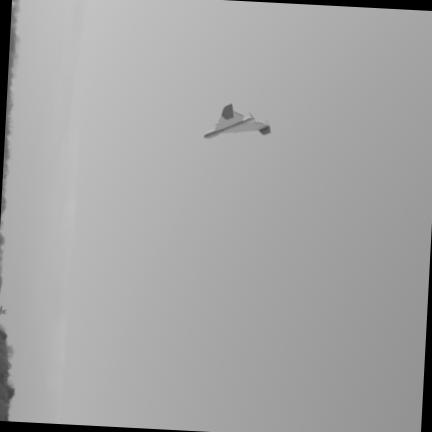Shahed: (204, 105, 270, 139)
